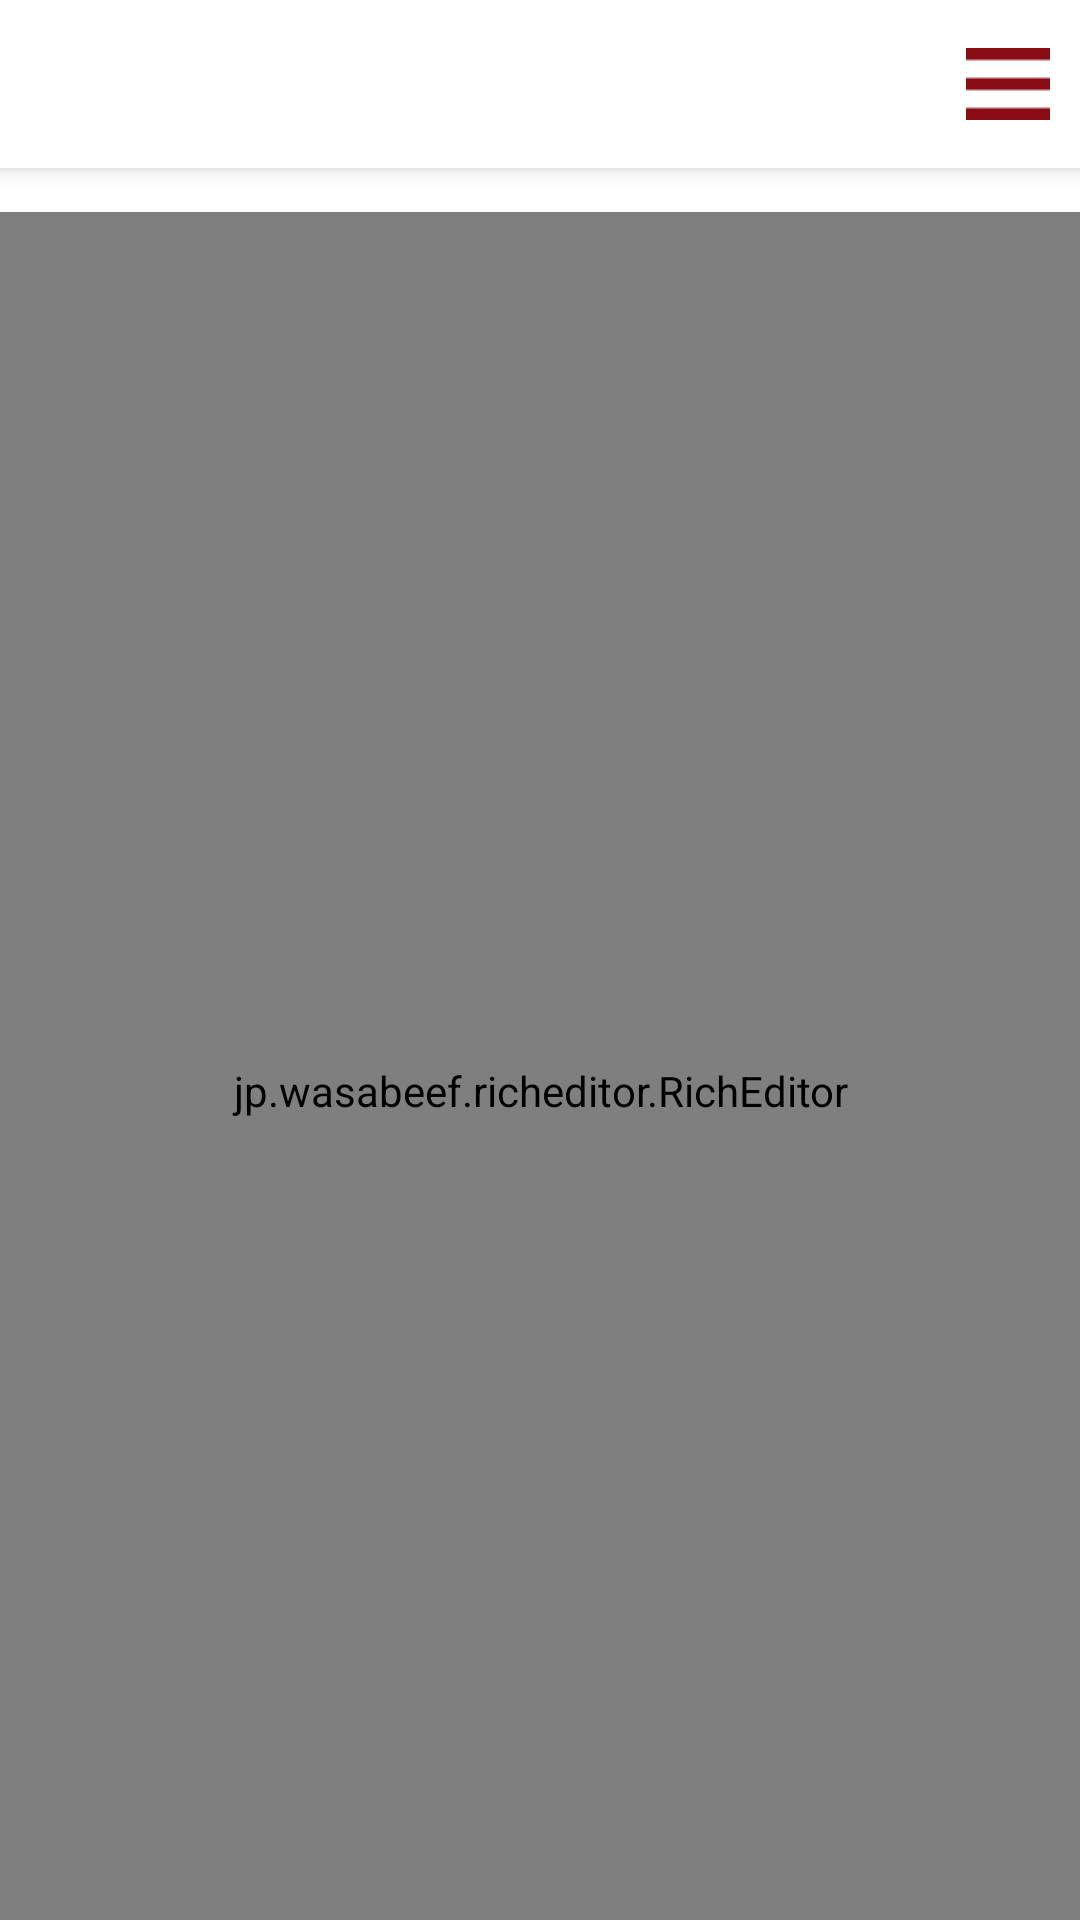

Named icons in this screenshot (1080 × 1920) and their centers, (x,y):
menu: (1008,84)
